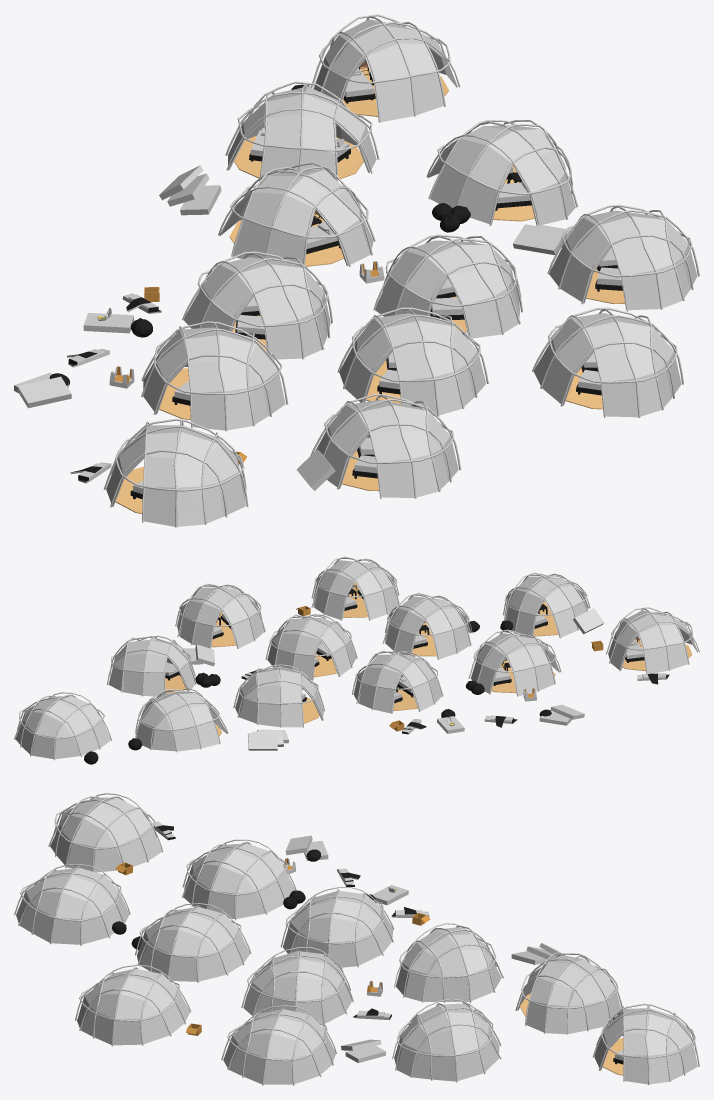
File: festival_camp.gltf
3 renders of one model, top to bottom at view 1: azimuth 30°, elevation 25°; view 2: azimuth 150°, elevation 25°; view 3: azimuth 270°, elevation 25°, orthographic. The views are drawn at different scales.
Parts seen in each view (by area): view 1: group1462786196, group289034493, group856420632, group618556615, group2116440757, group1123176248, group723158595, group125840106, group2090605341, group1414289473, group1959368106, group1865287519 (+5 smaller); view 2: group1414289473, group289034493, group1123176248, group723158595, group1865287519, group618556615, group2116440757, group1462786196, group2090605341, group1959368106, group125840106, group856420632 (+2 smaller); view 3: group1462786196, group125840106, group289034493, group856420632, group723158595, group1123176248, group618556615, group1865287519, group2116440757, group1414289473, group2090605341, group1959368106 (+1 smaller).
Part boxes in pixels (x1=…): group1462786196: x1=532, y1=307, x2=683, y2=417; group289034493: x1=547, y1=204, x2=699, y2=311; group856420632: x1=426, y1=119, x2=578, y2=225; group618556615: x1=141, y1=321, x2=288, y2=431; group2116440757: x1=218, y1=162, x2=375, y2=266; group1123176248: x1=104, y1=418, x2=248, y2=527; group723158595: x1=337, y1=307, x2=488, y2=416; group125840106: x1=310, y1=394, x2=461, y2=498; group2090605341: x1=182, y1=251, x2=332, y2=359; group1414289473: x1=310, y1=14, x2=460, y2=122; group1959368106: x1=373, y1=234, x2=522, y2=338; group1865287519: x1=225, y1=81, x2=379, y2=181; group1414289473: x1=14, y1=692, x2=111, y2=760; group289034493: x1=175, y1=583, x2=265, y2=648; group1123176248: x1=606, y1=607, x2=699, y2=673; group723158595: x1=382, y1=592, x2=472, y2=659; group1865287519: x1=135, y1=688, x2=228, y2=752; group618556615: x1=468, y1=629, x2=561, y2=696; group2116440757: x1=233, y1=664, x2=325, y2=727; group1462786196: x1=311, y1=556, x2=400, y2=620; group2090605341: x1=352, y1=650, x2=443, y2=713; group1959368106: x1=265, y1=614, x2=357, y2=680; group125840106: x1=503, y1=572, x2=590, y2=638; group856420632: x1=107, y1=635, x2=196, y2=696; group1462786196: x1=75, y1=964, x2=191, y2=1046; group125840106: x1=14, y1=864, x2=130, y2=945; group289034493: x1=221, y1=1005, x2=336, y2=1085; group856420632: x1=392, y1=998, x2=501, y2=1082; group723158595: x1=135, y1=903, x2=251, y2=982; group1123176248: x1=48, y1=793, x2=163, y2=872; group618556615: x1=182, y1=839, x2=296, y2=920; group1865287519: x1=515, y1=952, x2=622, y2=1034; group2116440757: x1=394, y1=923, x2=503, y2=1002; group1414289473: x1=593, y1=1003, x2=699, y2=1084; group2090605341: x1=280, y1=887, x2=394, y2=967; group1959368106: x1=241, y1=947, x2=353, y2=1024.
Size of the model in its own units: 8.15 by 0.9558 by 9.3.
